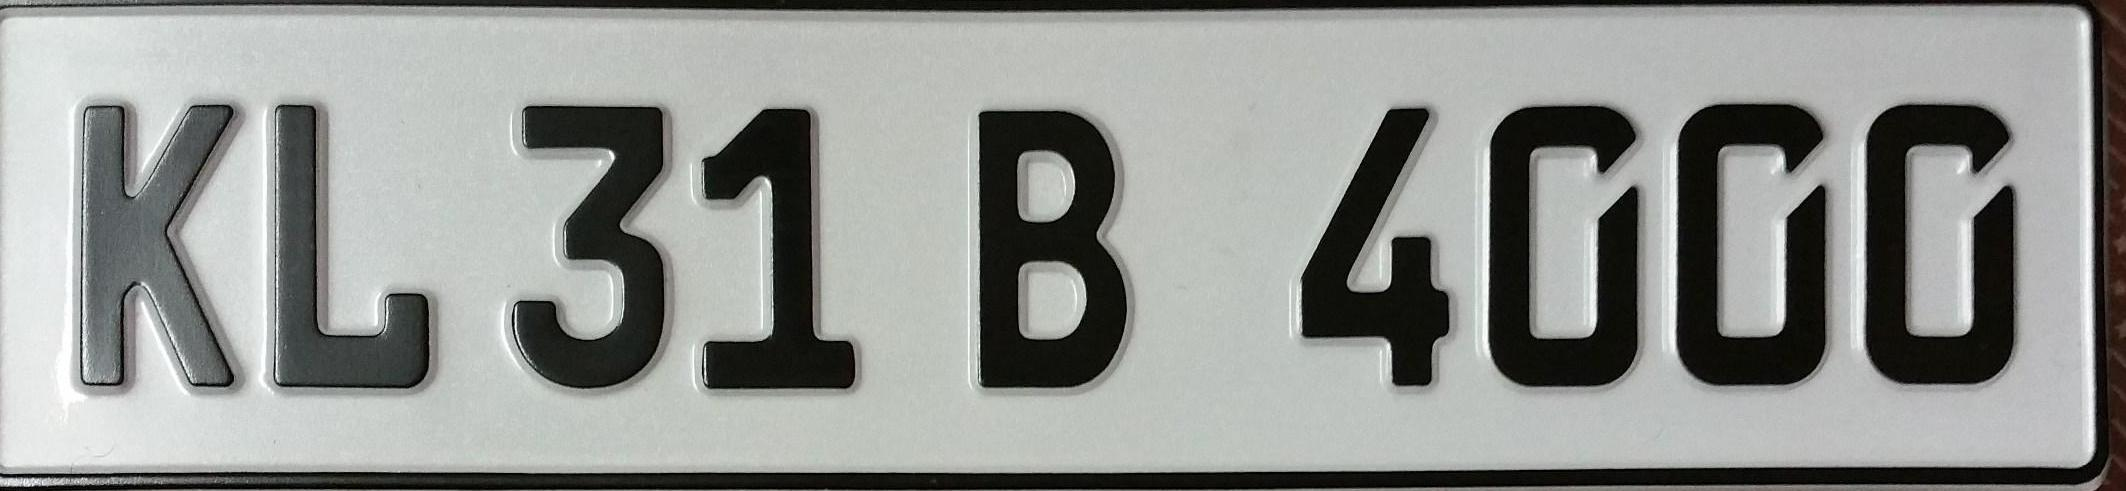0: (1478, 102, 1655, 393), (1667, 100, 1841, 395), (1854, 98, 2022, 385)
1: (687, 104, 863, 391)
3: (506, 100, 674, 392)
4: (1280, 102, 1463, 393)
B: (969, 106, 1136, 398)
K: (70, 98, 240, 393)
L: (267, 100, 439, 393)
